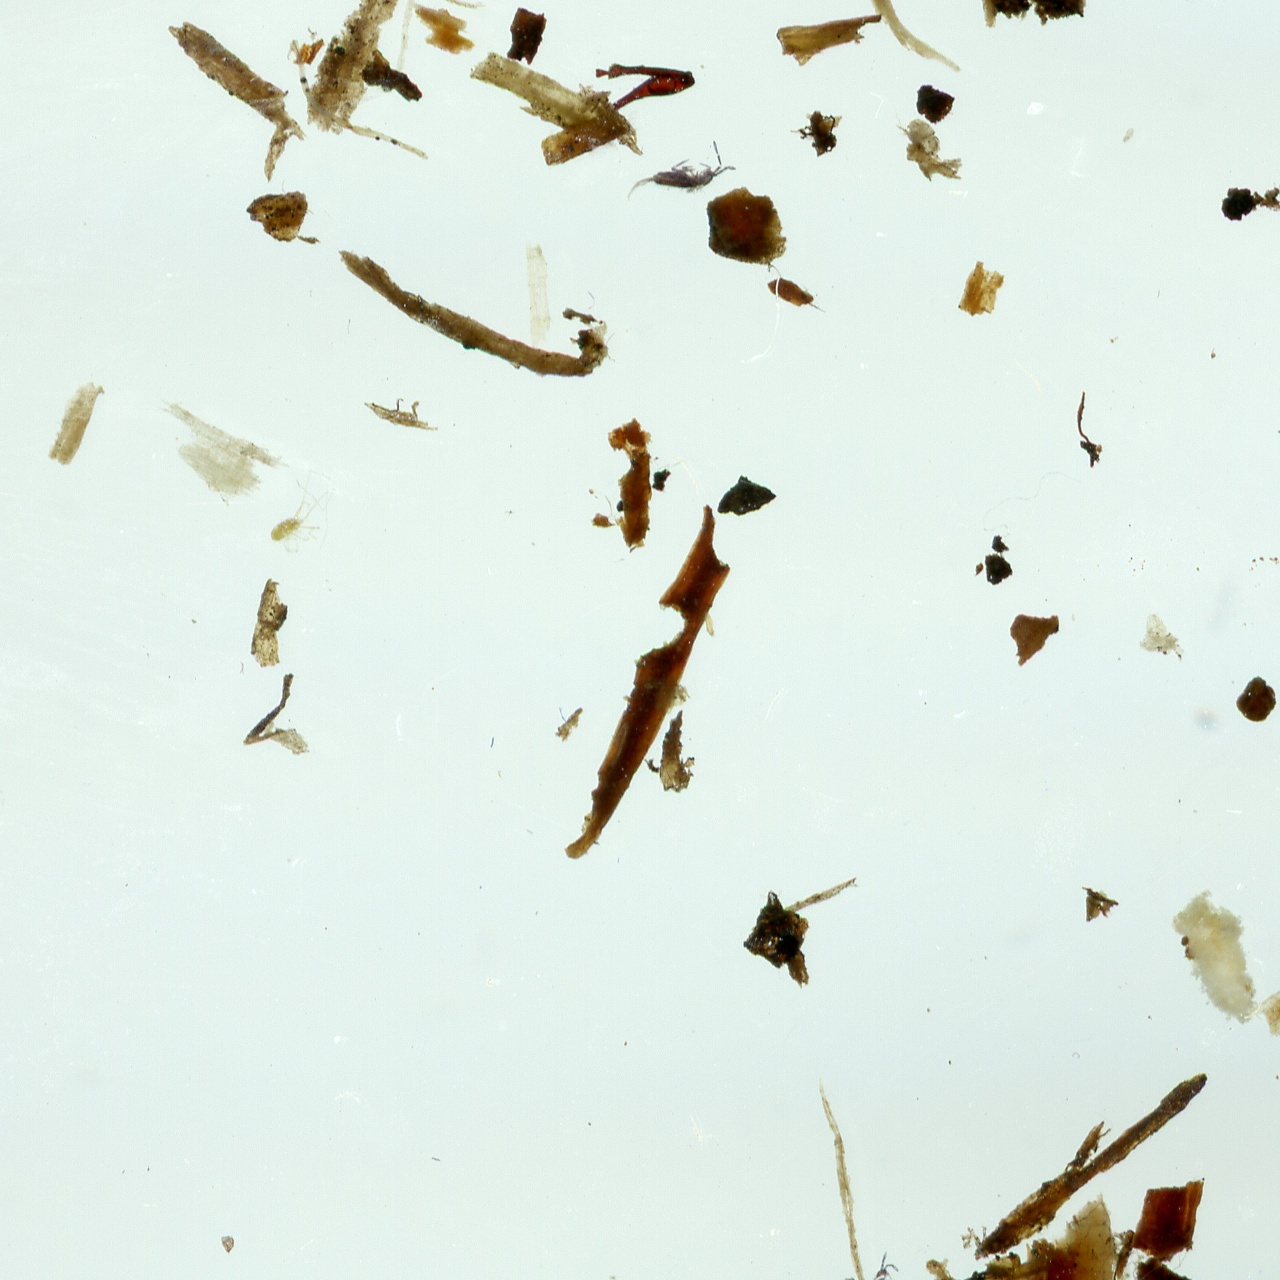arthropod: (621, 137, 740, 205), (267, 463, 340, 558), (869, 1248, 901, 1280)
